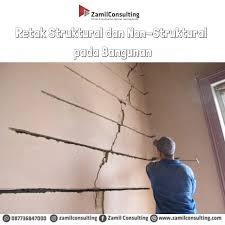Crack: (86, 62, 141, 213)
